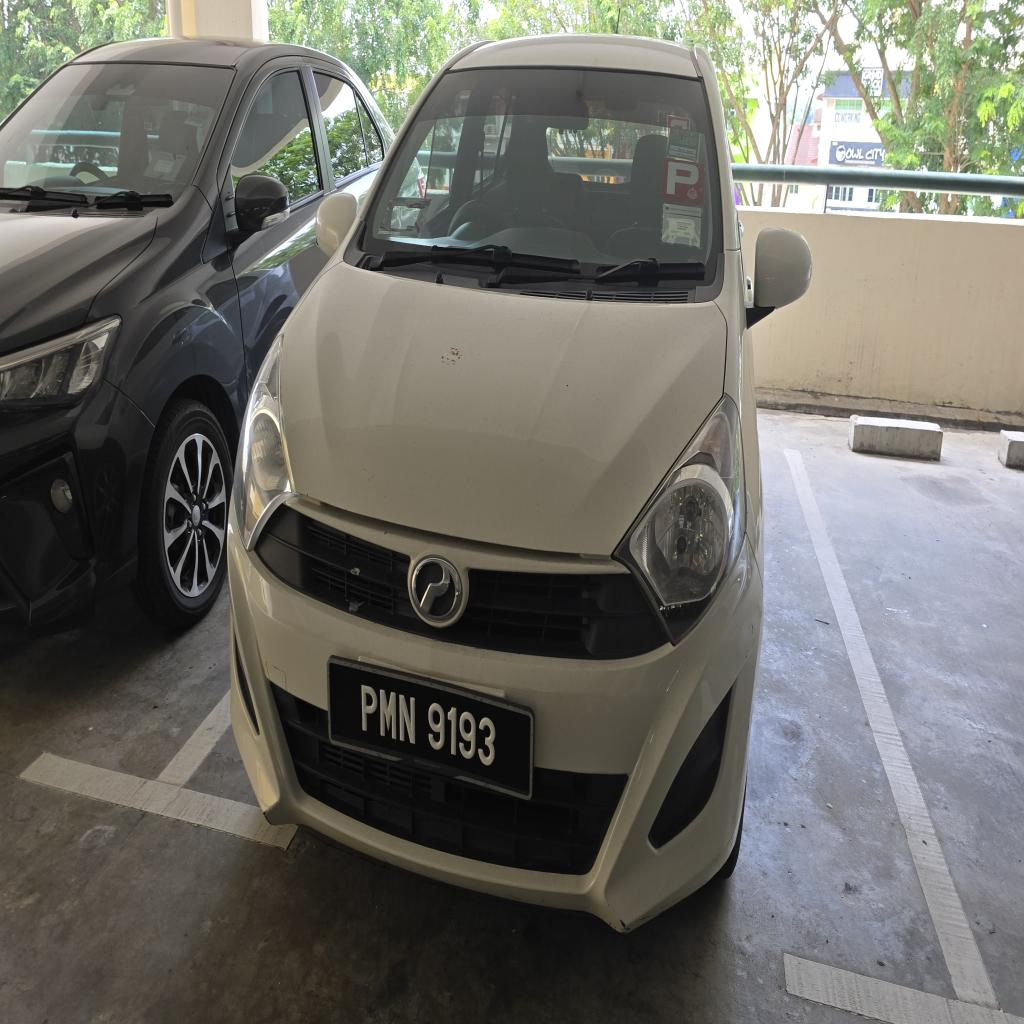car: (228, 36, 810, 929)
car plate: (329, 658, 533, 798)
